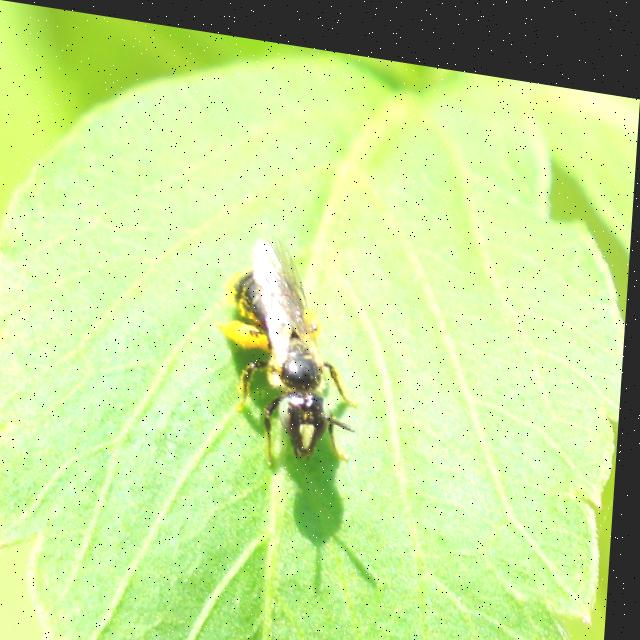Braunsapis: (209, 222, 382, 486)
